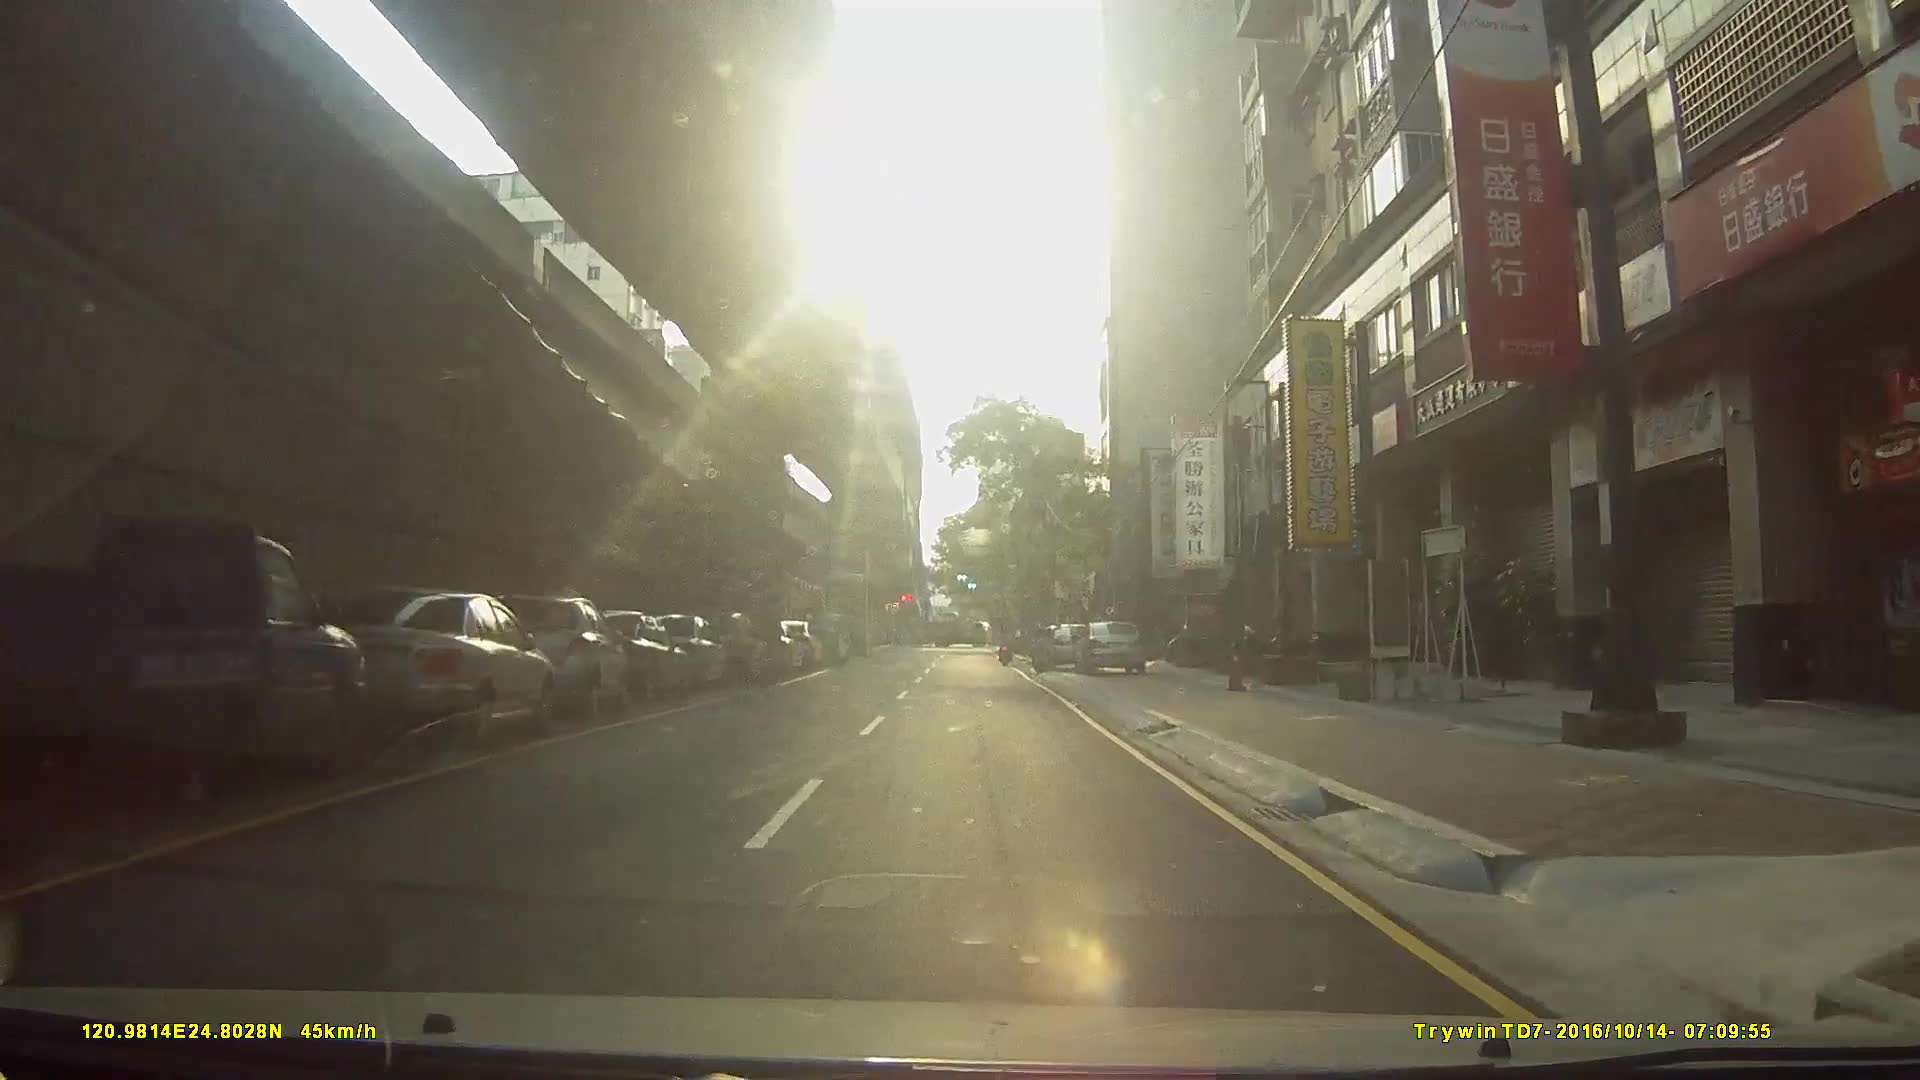vehicle: (3, 514, 369, 832), (287, 582, 551, 753), (464, 589, 622, 724), (564, 607, 686, 702), (641, 611, 727, 688), (688, 608, 767, 684), (1071, 616, 1151, 673), (1029, 620, 1091, 673), (920, 611, 997, 647)
